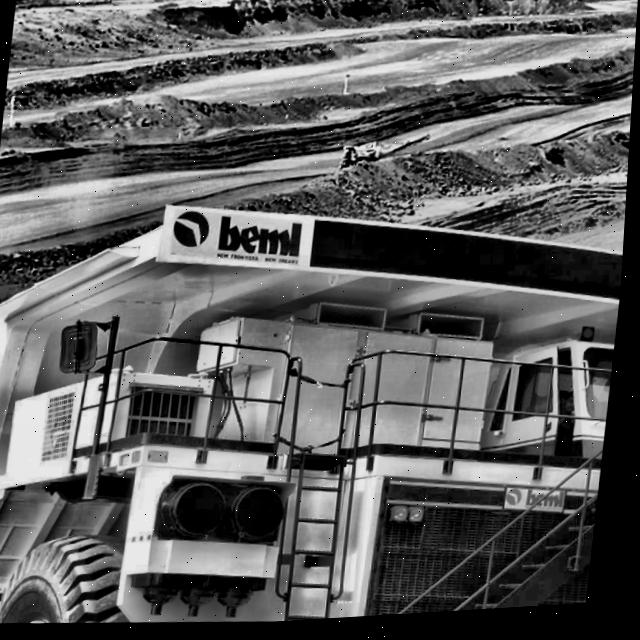dump_truck: (0, 164, 631, 640)
